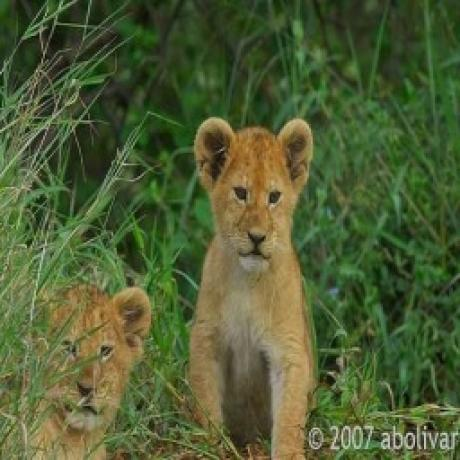Lion: (185, 113, 316, 460), (29, 281, 153, 460)
